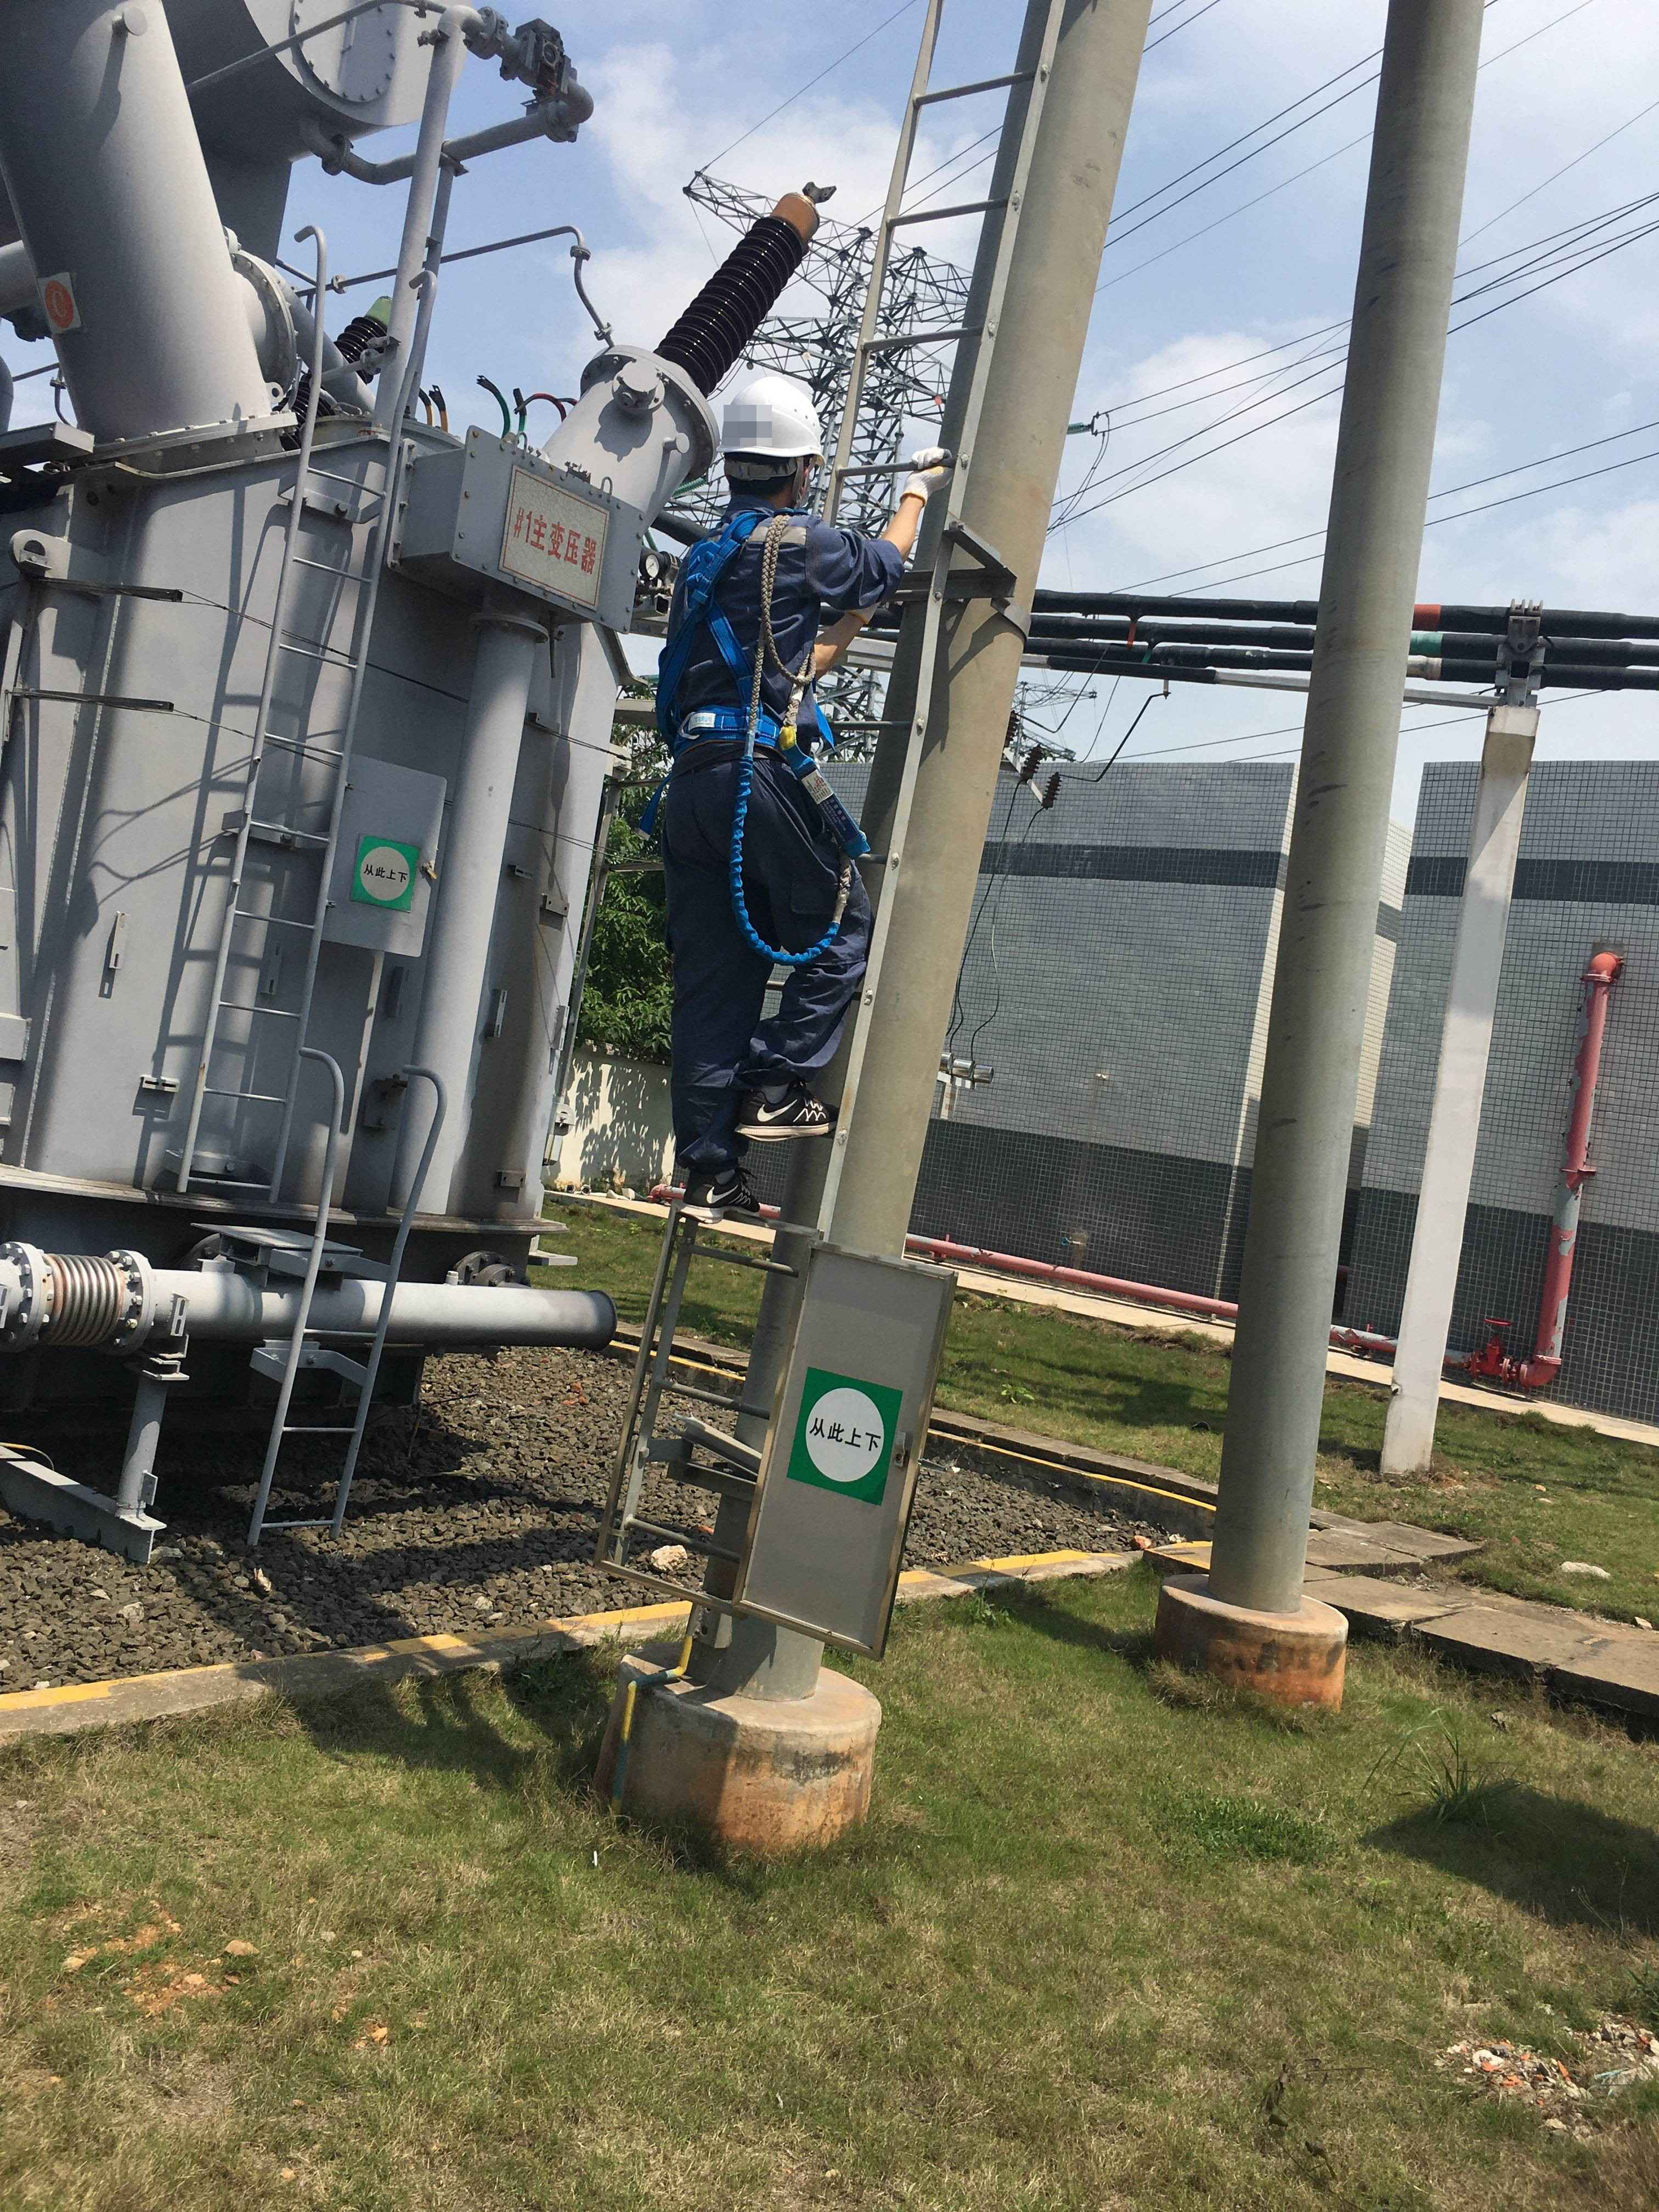downsuit: (653, 763, 863, 1170)
upsuit: (652, 502, 906, 745)
wrongtop: (816, 611, 871, 679), (878, 489, 927, 563)
